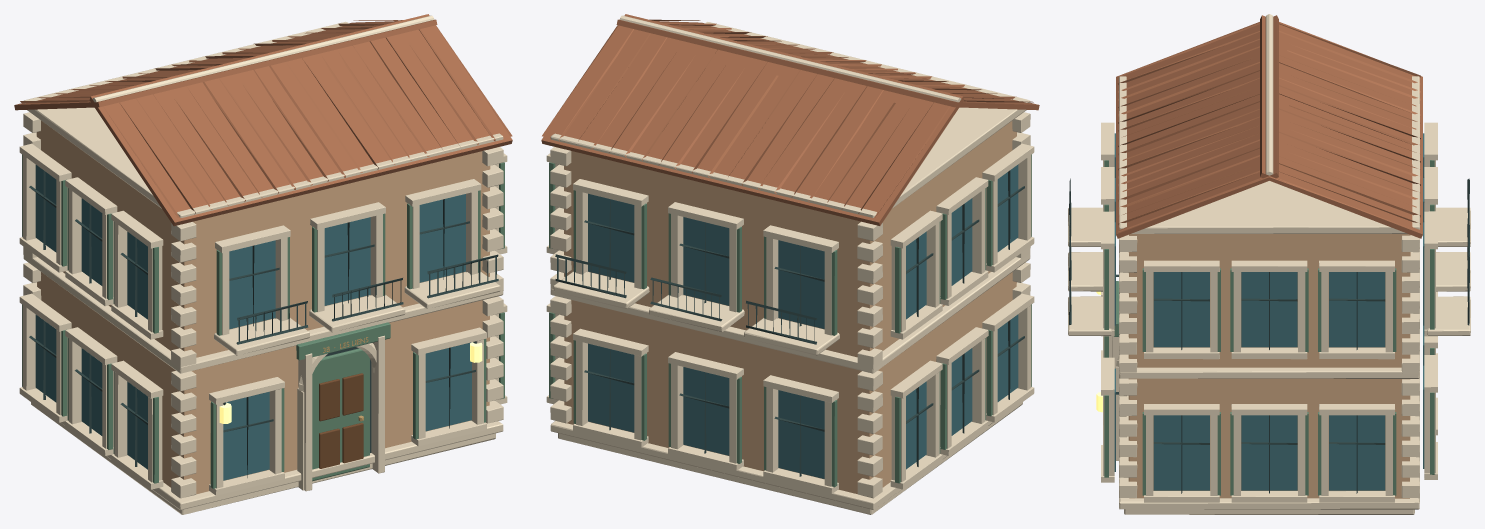
The model's file is italie-2-lod.glb.
3 renders of one model, left to right at view 1: azimuth 30°, elevation 25°; view 2: azimuth 150°, elevation 25°; view 3: azimuth 270°, elevation 25°, orthographic. The views are drawn at different scales.
Visible parts, largest first — view 1: italie-2_Dressed stone.001, italie-2_Regional roof.001, italie-2_Masonry plaster.001, italie-2_Window blue.001, italie-2_Regional painted wood.001, italie-2_Forged midnight.001, italie-2_Walnut.001; view 2: italie-2_Dressed stone.001, italie-2_Regional roof.001, italie-2_Masonry plaster.001, italie-2_Window blue.001, italie-2_Regional painted wood.001, italie-2_Forged midnight.001; view 3: italie-2_Dressed stone.001, italie-2_Regional roof.001, italie-2_Window blue.001, italie-2_Masonry plaster.001, italie-2_Regional painted wood.001, italie-2_Forged midnight.001.
Part boxes in pixels (x1,y1,x2,y2): italie-2_Dressed stone.001: (19,15,507,514); italie-2_Regional roof.001: (14,14,512,226); italie-2_Masonry plaster.001: (36,120,490,494); italie-2_Window blue.001: (35,165,471,480); italie-2_Regional painted wood.001: (22,154,504,488); italie-2_Forged midnight.001: (29,170,498,477); italie-2_Walnut.001: (319,373,363,468); italie-2_Dressed stone.001: (546,15,1034,514); italie-2_Regional roof.001: (541,14,1039,225); italie-2_Masonry plaster.001: (564,121,1016,493); italie-2_Window blue.001: (588,164,1018,478); italie-2_Regional painted wood.001: (549,154,1031,487); italie-2_Forged midnight.001: (555,170,1024,476); italie-2_Dressed stone.001: (1068,14,1470,514); italie-2_Regional roof.001: (1116,15,1422,238); italie-2_Window blue.001: (1114,133,1424,490); italie-2_Masonry plaster.001: (1128,234,1410,498); italie-2_Regional painted wood.001: (1104,160,1434,495); italie-2_Forged midnight.001: (1069,178,1469,493).
Bounding box in the file's own units: 13.93 × 13.63 × 14.25.
